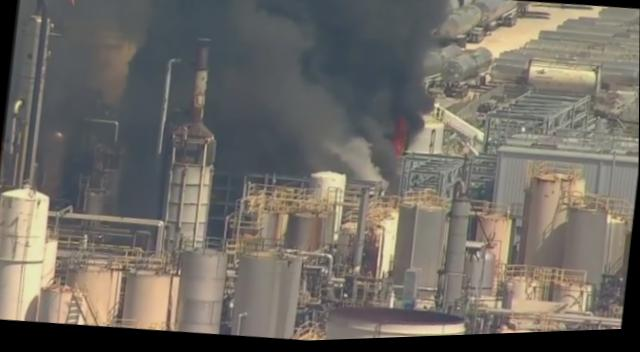smoke: (0, 0, 190, 223), (207, 0, 457, 148), (216, 122, 420, 188), (173, 36, 199, 127), (183, 0, 225, 38)
